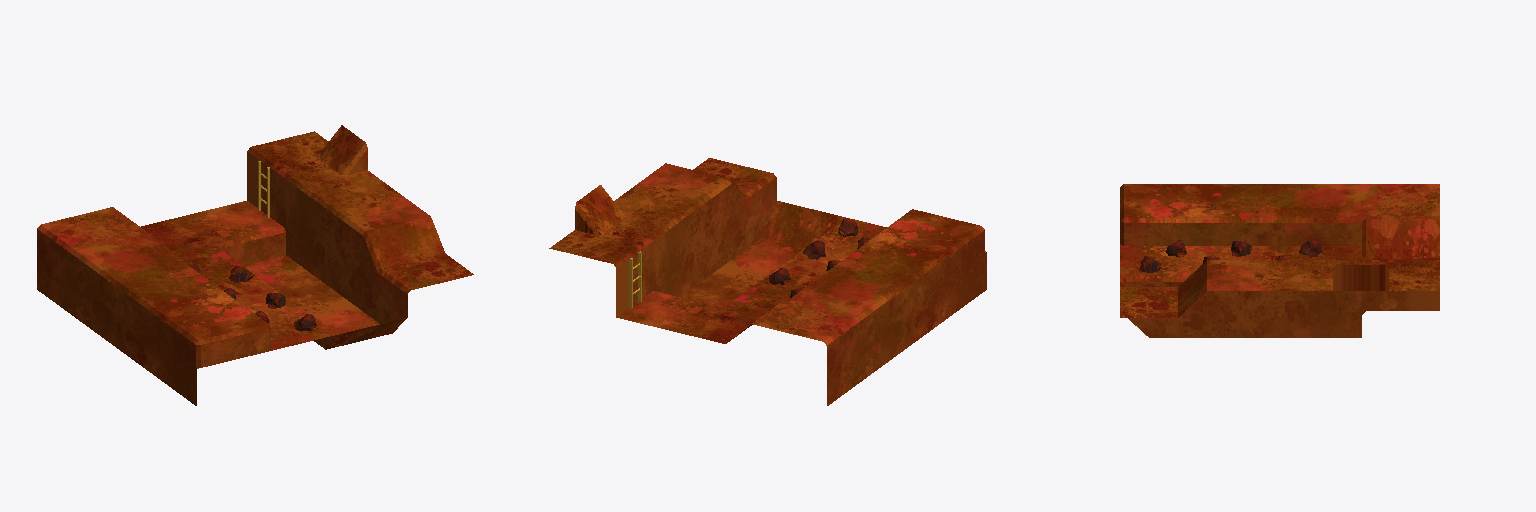
3 views of the same model, side by side, from view 1: azimuth 30°, elevation 25°; view 2: azimuth 150°, elevation 25°; view 3: azimuth 270°, elevation 25° (orthographic).
Parts seen in each view (by area): view 1: chunk.002; view 2: chunk.002; view 3: chunk.002.
Part boxes in pixels (x1,y1,x2,y2): chunk.002: (37, 125, 473, 405); chunk.002: (549, 158, 986, 405); chunk.002: (1120, 184, 1439, 337).
Bounding box in the file's own units: 99 × 40 × 99.
Materials: 1 (1 with a texture image).